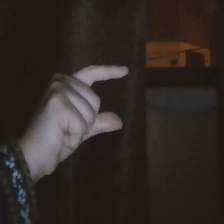G: (27, 58, 139, 180)
